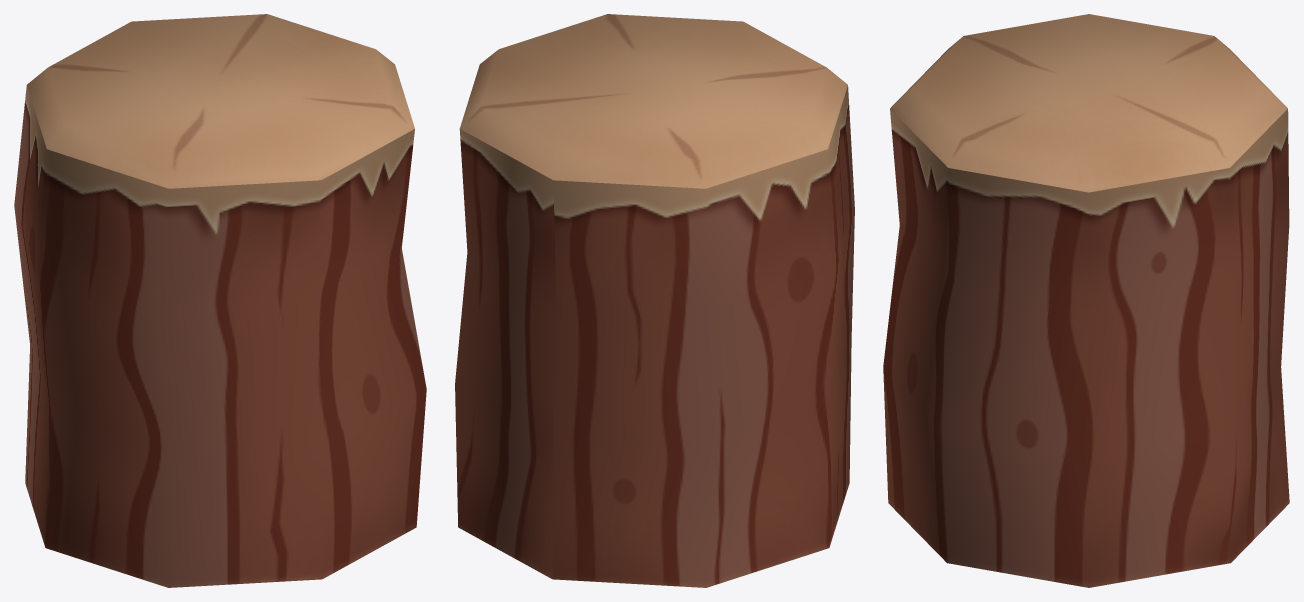
The model's file is ChoppingBlock.FBX.
3 renders of one model, left to right at view 1: azimuth 30°, elevation 25°; view 2: azimuth 150°, elevation 25°; view 3: azimuth 270°, elevation 25°, orthographic.
Parts seen in each view (by area): view 1: ChoppingBlock; view 2: ChoppingBlock; view 3: ChoppingBlock.
Part boxes in pixels (<box>): ChoppingBlock: <box>14,14,426,587</box>; ChoppingBlock: <box>455,14,854,587</box>; ChoppingBlock: <box>883,14,1289,587</box>.
Size of the model in its own units: 48.71 by 53.83 by 47.88.
